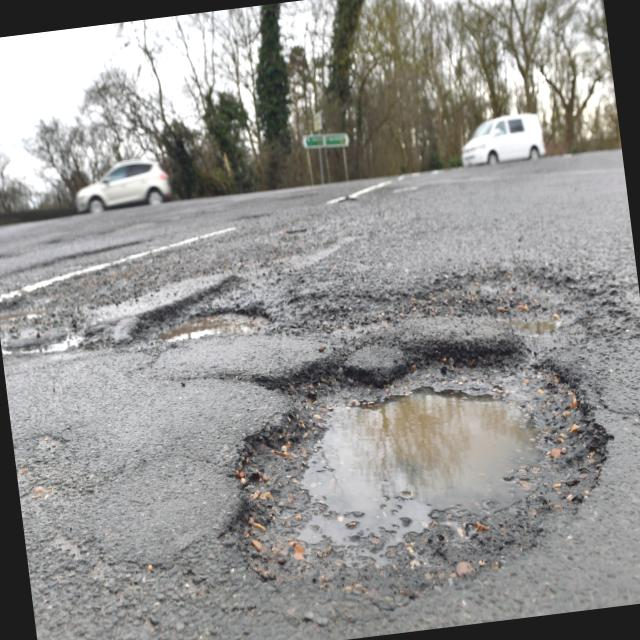bad-road: (196, 322, 626, 608), (0, 295, 272, 364)
